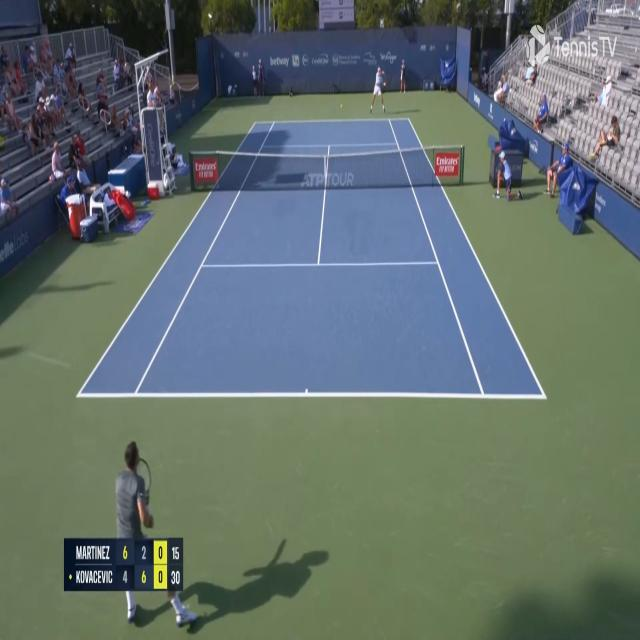tennis-player: (111, 436, 196, 632), (369, 66, 387, 115)
